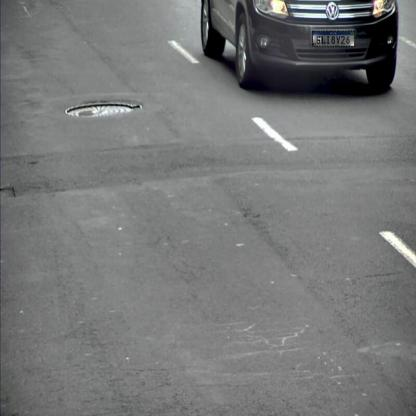PlacaM: (312, 30, 355, 46)
